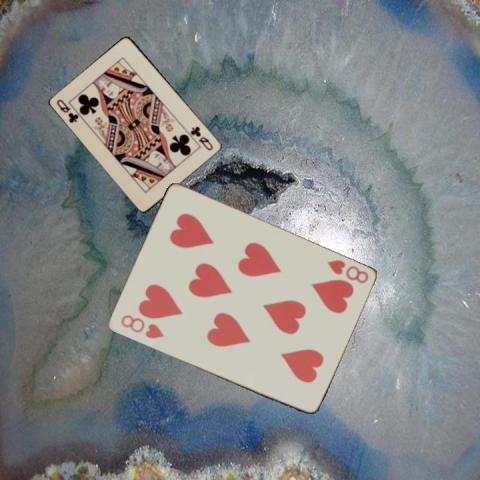8h: (118, 311, 166, 341), (323, 257, 370, 285)
Qc: (188, 123, 215, 152), (54, 96, 80, 125)
